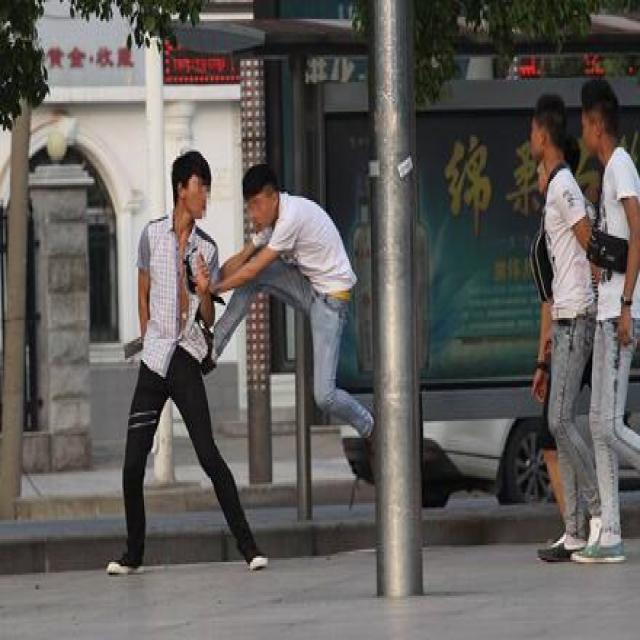fight: (136, 157, 370, 441)
